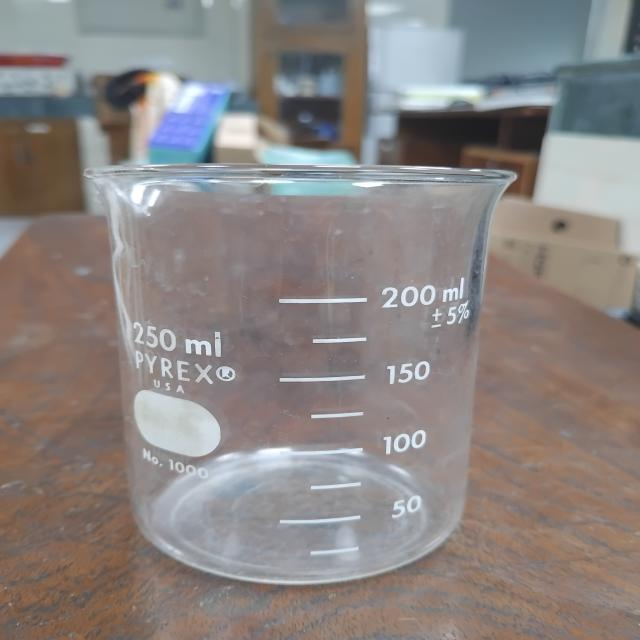Beaker: (54, 127, 572, 608)
